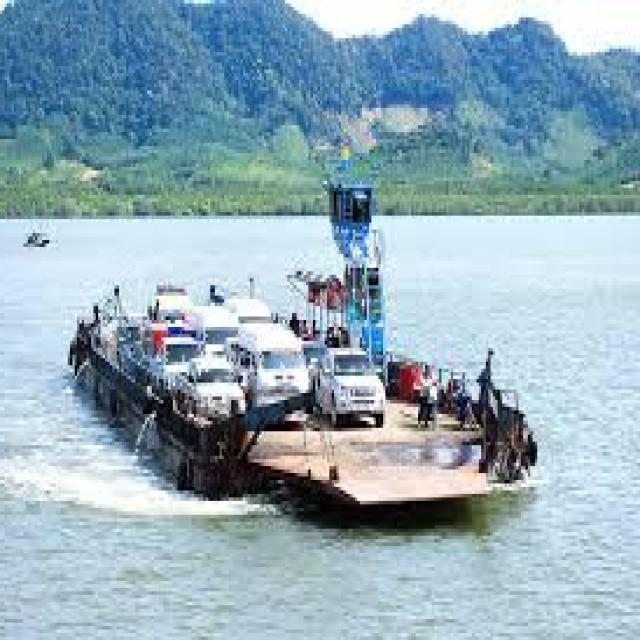cargoship: (78, 194, 522, 517)
